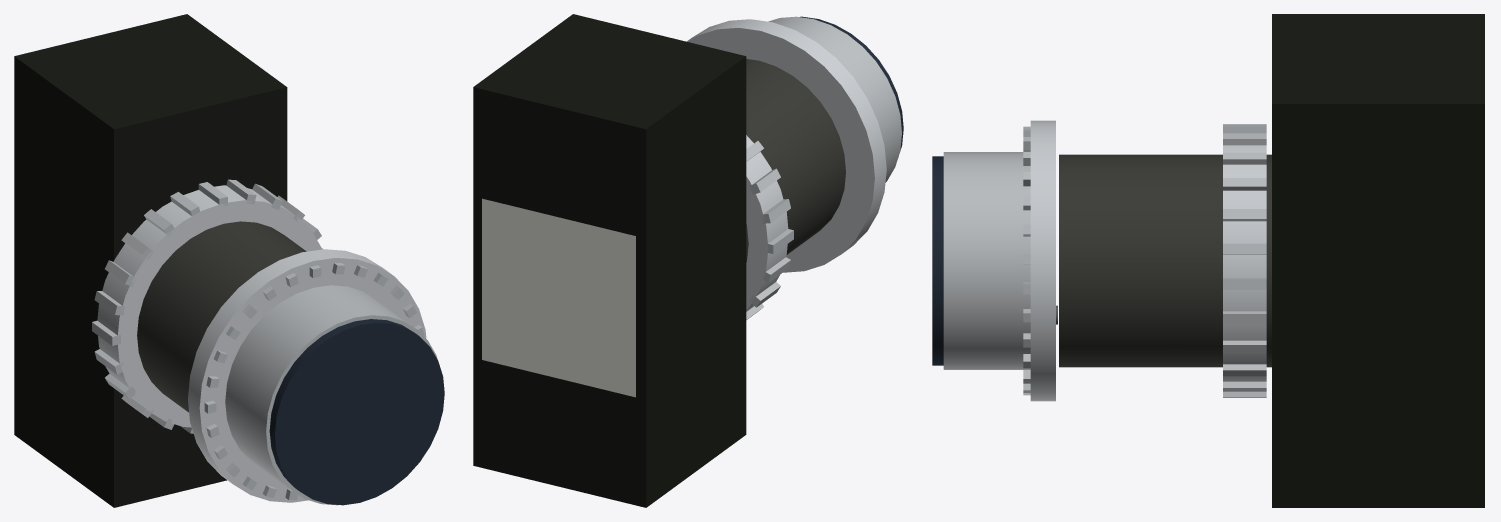
Rendered from pushButtonXb2Black.glb.
3 views of the same model, side by side, from view 1: azimuth 30°, elevation 25°; view 2: azimuth 150°, elevation 25°; view 3: azimuth 270°, elevation 25° (orthographic). The views are drawn at different scales.
Visible parts, largest first — view 1: industrial_xb2_contact, industrial_xb2_cap_face, industrial_xb2_body, industrial_xb2_bezel, industrial_xb2_cap, industrial_xb2_locknut; view 2: industrial_xb2_contact, industrial_xb2_etch_back, industrial_xb2_bezel, industrial_xb2_body, industrial_xb2_cap, industrial_xb2_locknut, industrial_xb2_cap_face; view 3: industrial_xb2_contact, industrial_xb2_body, industrial_xb2_cap, industrial_xb2_bezel, industrial_xb2_locknut, industrial_xb2_cap_face, industrial_xb2_locknut_knurl_23.
Part boxes in pixels (<box>): industrial_xb2_contact: <box>14,14,287,507</box>; industrial_xb2_cap_face: <box>269,319,444,505</box>; industrial_xb2_body: <box>137,221,306,412</box>; industrial_xb2_bezel: <box>188,249,426,502</box>; industrial_xb2_cap: <box>225,285,437,505</box>; industrial_xb2_locknut: <box>97,185,321,427</box>; industrial_xb2_contact: <box>473,14,746,507</box>; industrial_xb2_etch_back: <box>482,198,635,397</box>; industrial_xb2_bezel: <box>687,19,886,272</box>; industrial_xb2_body: <box>746,59,845,262</box>; industrial_xb2_cap: <box>768,16,901,182</box>; industrial_xb2_locknut: <box>746,135,788,311</box>; industrial_xb2_cap_face: <box>800,16,903,150</box>; industrial_xb2_contact: <box>1272,14,1484,507</box>; industrial_xb2_body: <box>1059,154,1271,367</box>; industrial_xb2_cap: <box>943,152,1030,369</box>; industrial_xb2_bezel: <box>1030,120,1055,401</box>; industrial_xb2_locknut: <box>1223,133,1266,381</box>; industrial_xb2_cap_face: <box>932,156,943,365</box>; industrial_xb2_locknut_knurl_23: <box>1223,340,1266,353</box>.
Bounding box in the file's own units: 0.029 × 0.0463 × 0.0572.
